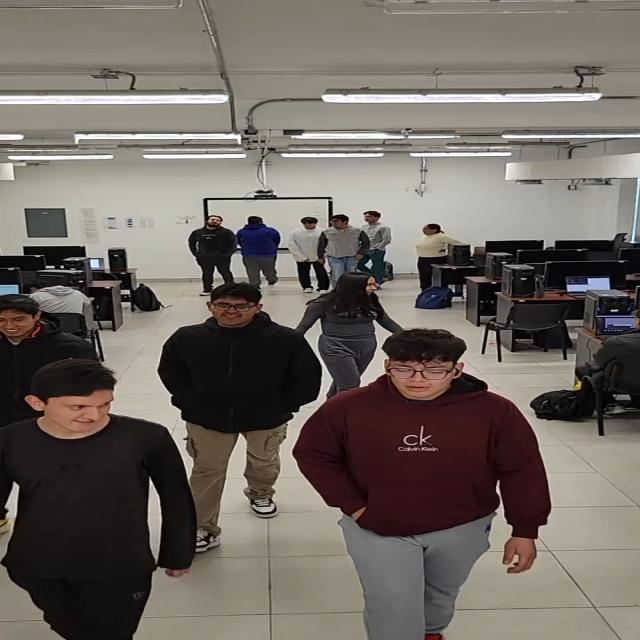Persona: (310, 323, 550, 640), (0, 363, 180, 640), (178, 284, 298, 558), (304, 269, 384, 386), (189, 215, 236, 291), (239, 216, 284, 291), (416, 220, 456, 292), (290, 212, 325, 291), (365, 209, 400, 284), (329, 212, 361, 278)
